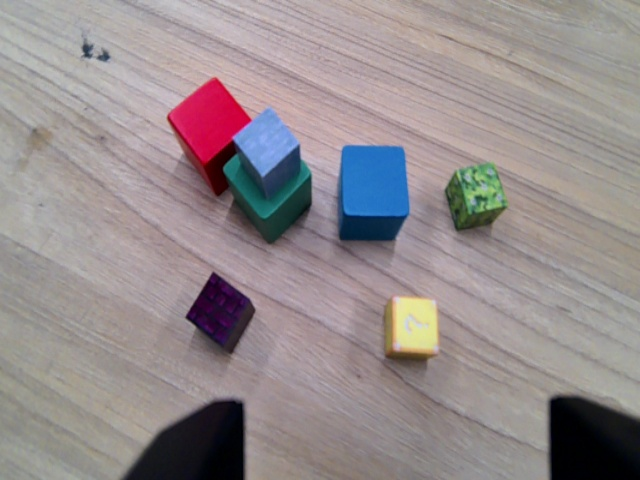brick: (188, 272, 254, 346)
grass: (449, 160, 509, 227)
lucky: (382, 293, 441, 361)
stone: (235, 111, 300, 190)
